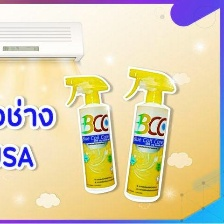cleaning_solution: (119, 64, 179, 203), (61, 73, 118, 195)
